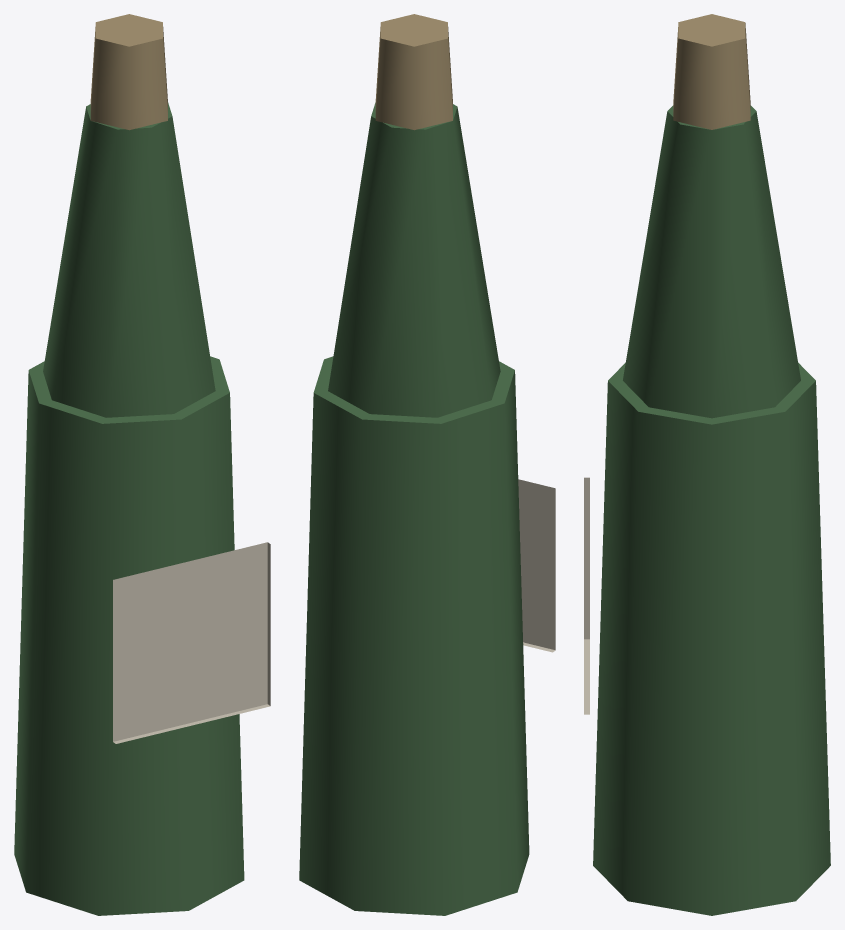
File: wineBottle.glb
3 renders of one model, left to right at view 1: azimuth 30°, elevation 25°; view 2: azimuth 150°, elevation 25°; view 3: azimuth 270°, elevation 25°, orthographic.
Size of the model in its own units: 0.08 by 0.31 by 0.083.
